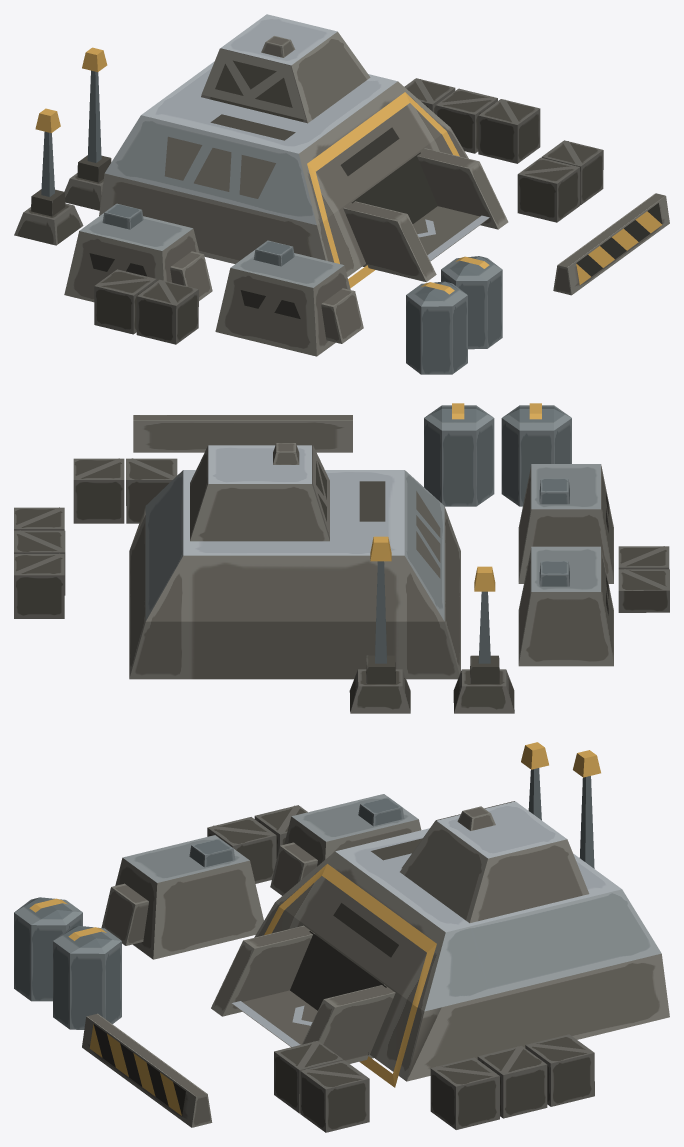
Rendered from outpost1.FBX.
The picture shows the model from 3 angles, top to bottom: view 1: azimuth 30°, elevation 25°; view 2: azimuth 150°, elevation 25°; view 3: azimuth 270°, elevation 25°; orthographic projection. The views are drawn at different scales.
Parts seen in each view (by area): view 1: outpost1; view 2: outpost1, a; view 3: outpost1, a.
Boxes of the visible parts, left/top/right/bottom form: outpost1: left=14, top=14, right=669, bottom=374; outpost1: left=14, top=403, right=669, bottom=713; a: left=273, top=443, right=299, bottom=464; outpost1: left=14, top=742, right=669, bottom=1132; a: left=457, top=806, right=495, bottom=830.
Bounding box in the file's own units: 151 × 145 × 47.51.
